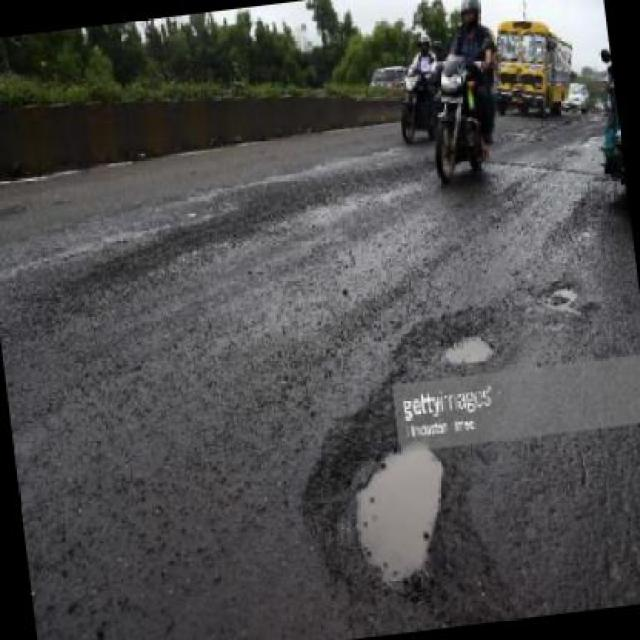pothole1: (286, 391, 509, 638), (379, 295, 515, 382), (532, 273, 588, 325)
